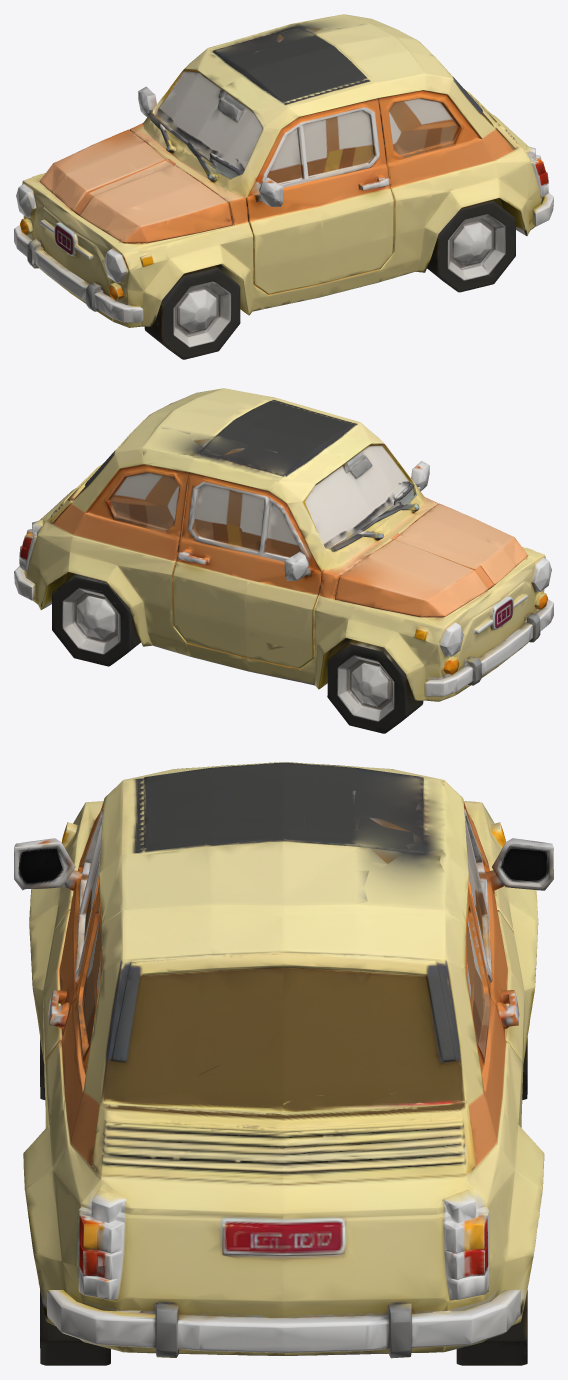
Rendered from car15.fbx.
The picture shows the model from 3 angles, top to bottom: view 1: azimuth 30°, elevation 25°; view 2: azimuth 150°, elevation 25°; view 3: azimuth 270°, elevation 25°; orthographic projection. The views are drawn at different scales.
Parts seen in each view (by area): view 1: node_0; view 2: node_0; view 3: node_0.
Part boxes in pixels (x1,y1,x2,y2): node_0: (14, 14, 553, 359); node_0: (14, 388, 553, 733); node_0: (14, 762, 553, 1365).
Bounding box in the file's own units: 111 × 50.98 × 57.95.
